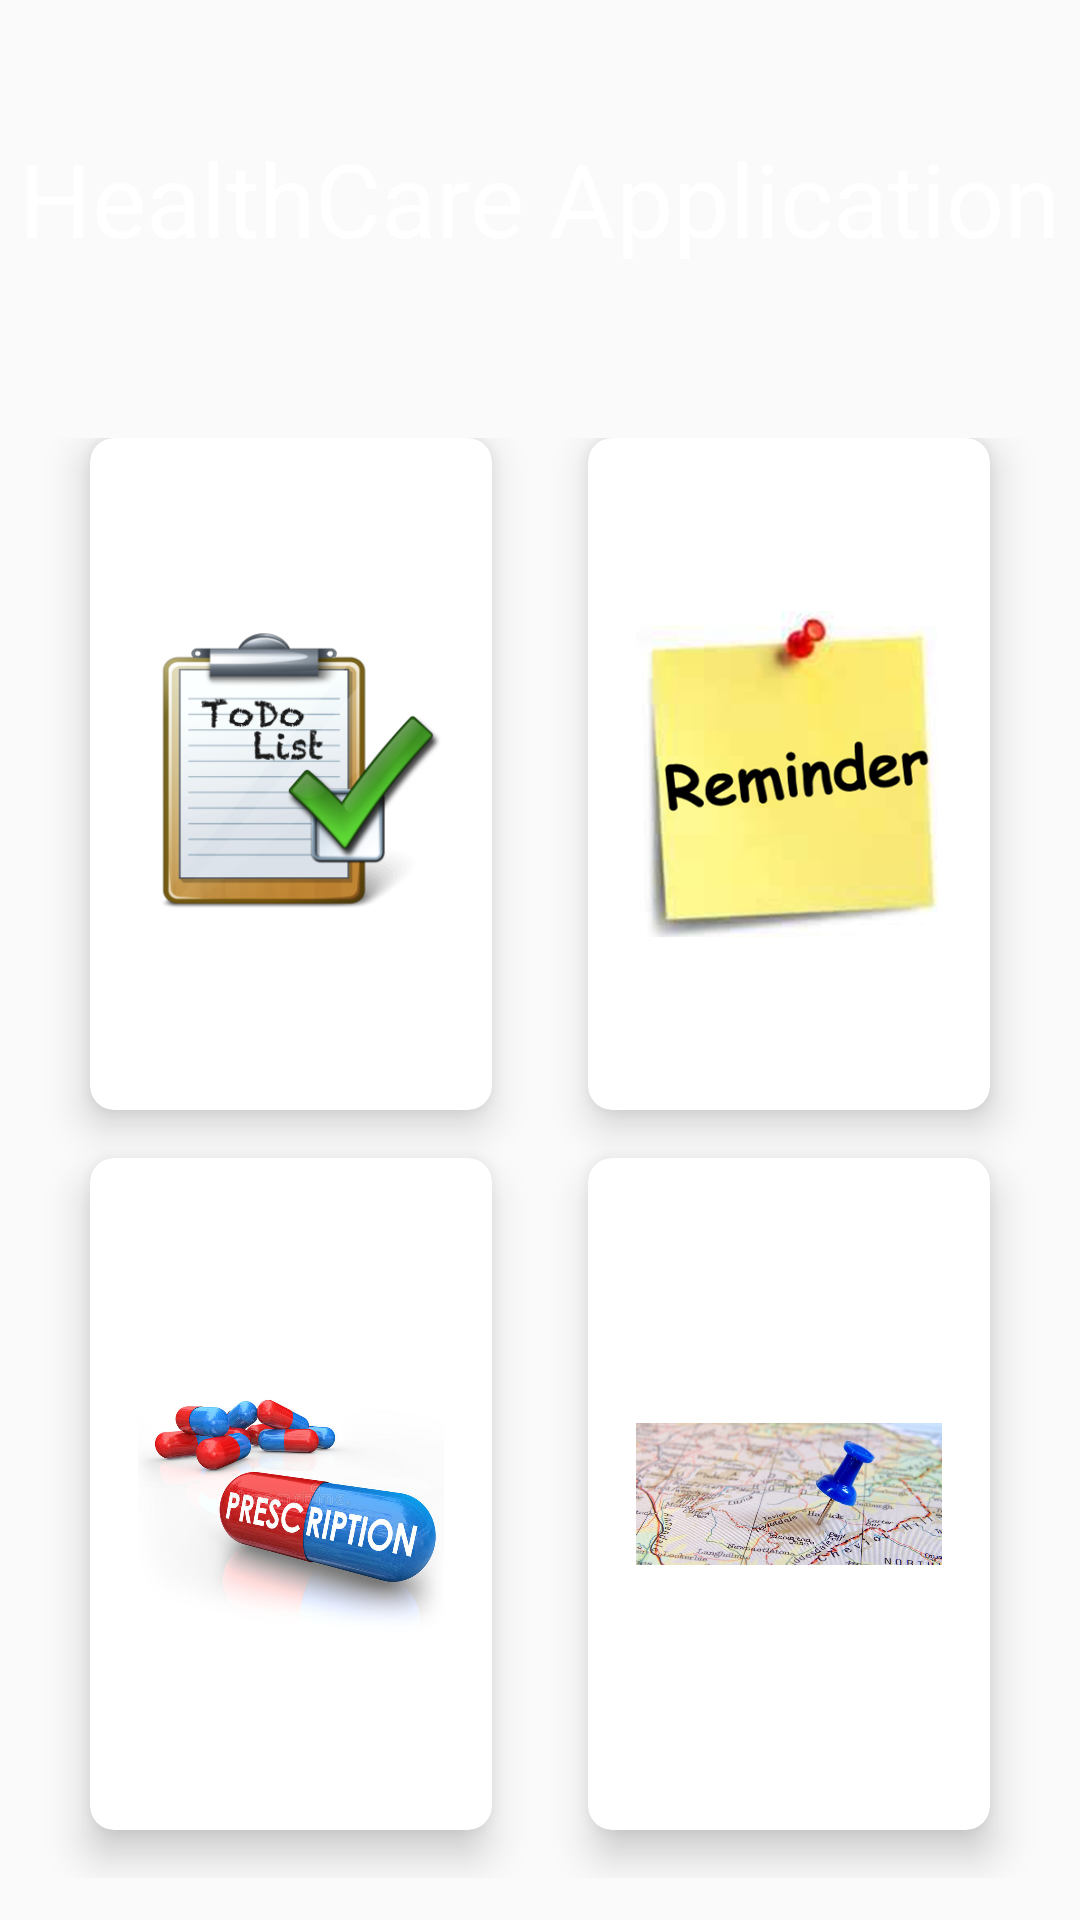

Named icons in this screenshot (1080w x 1920h) and their bounding boxes, (x1, y1, x2, y2):
maps: (636, 1423, 942, 1565)
